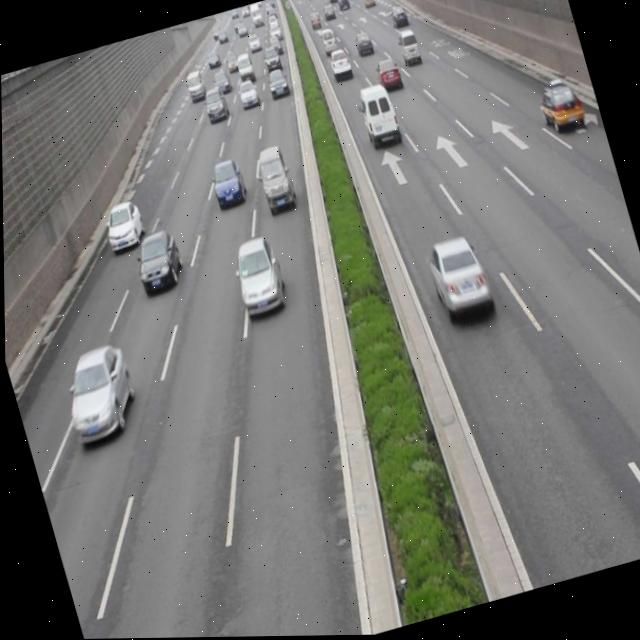car: (52, 342, 143, 447), (420, 233, 496, 330), (226, 235, 289, 320), (128, 228, 185, 295), (532, 78, 586, 138), (99, 200, 147, 253), (206, 158, 247, 208)
truck: (250, 143, 298, 218), (354, 82, 400, 151)
